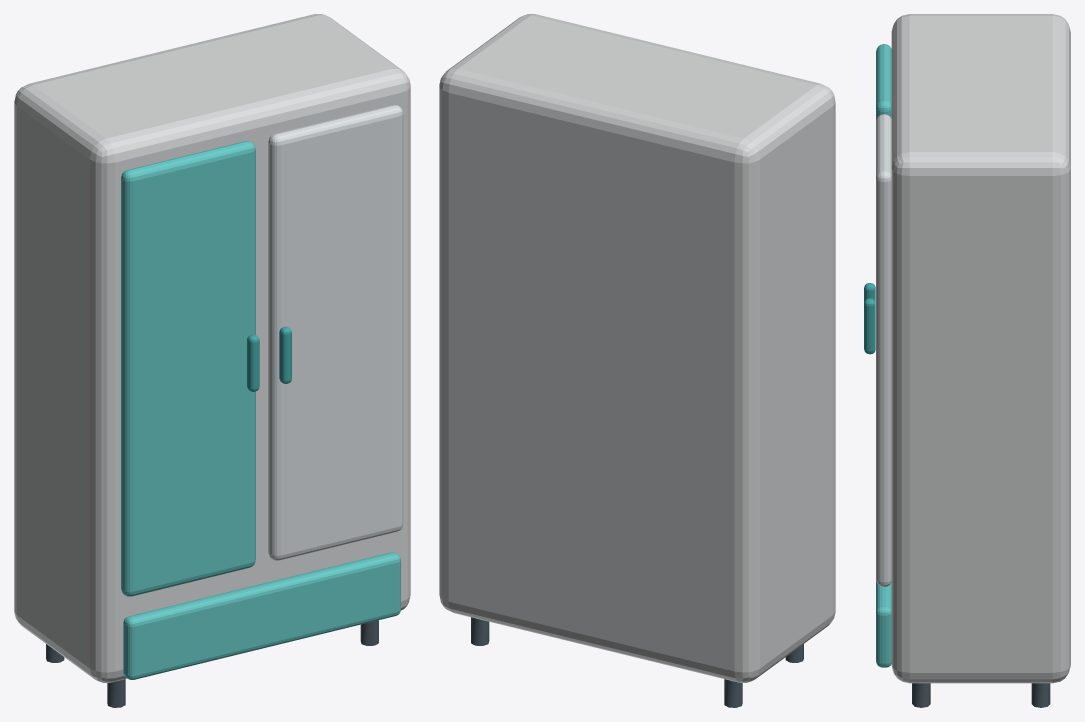
File: wardrobe.glb
3 views of the same model, side by side, from view 1: azimuth 30°, elevation 25°; view 2: azimuth 150°, elevation 25°; view 3: azimuth 270°, elevation 25° (orthographic). The views are drawn at different scales.
Visible parts, largest first — view 1: cabinet, right_door, left_door, bottom_drawer, left_handle, right_handle; view 2: cabinet; view 3: cabinet, right_door, bottom_drawer, left_door, right_handle, foot_0.43_-0.18, foot_0.43_0.18.
Part boxes in pixels (x1,y1,x2,y2): cabinet: (14, 14, 410, 682); right_door: (268, 105, 403, 560); left_door: (121, 141, 255, 596); bottom_drawer: (123, 552, 400, 679); left_handle: (247, 334, 259, 391); right_handle: (279, 326, 291, 383); cabinet: (439, 14, 835, 682); cabinet: (891, 14, 1070, 683); right_door: (876, 114, 891, 587); bottom_drawer: (876, 580, 891, 667); left_door: (876, 44, 891, 120); right_handle: (864, 298, 875, 354); foot_0.43_-0.18: (1031, 683, 1050, 707); foot_0.43_0.18: (912, 683, 930, 707).
Bounding box in the file's own units: 1.08 × 1.86 × 0.6225.
